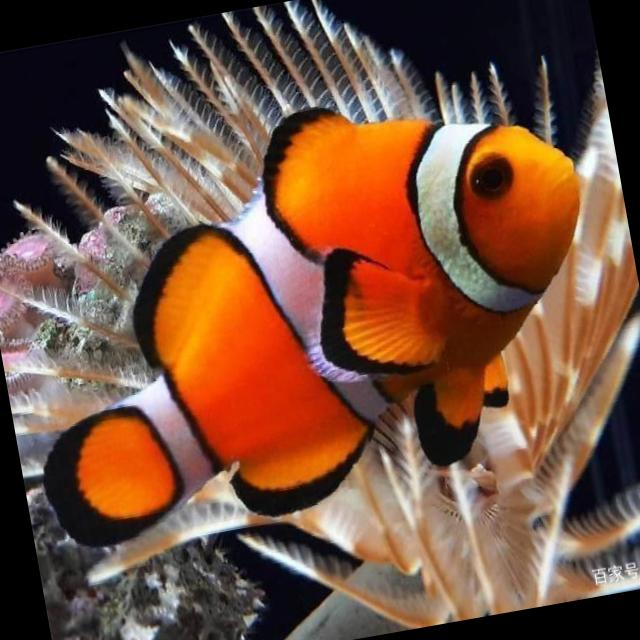ClownFish: (0, 61, 623, 556)
